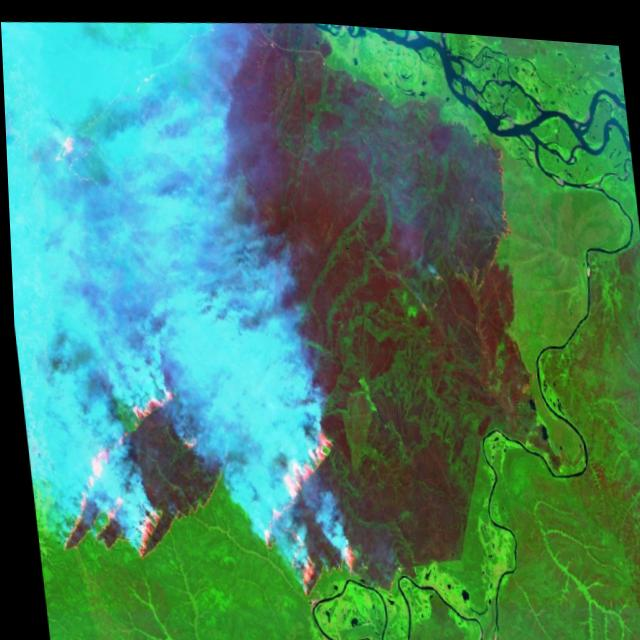fire: (37, 368, 232, 566), (241, 410, 358, 599), (477, 127, 523, 267), (46, 120, 91, 178)
